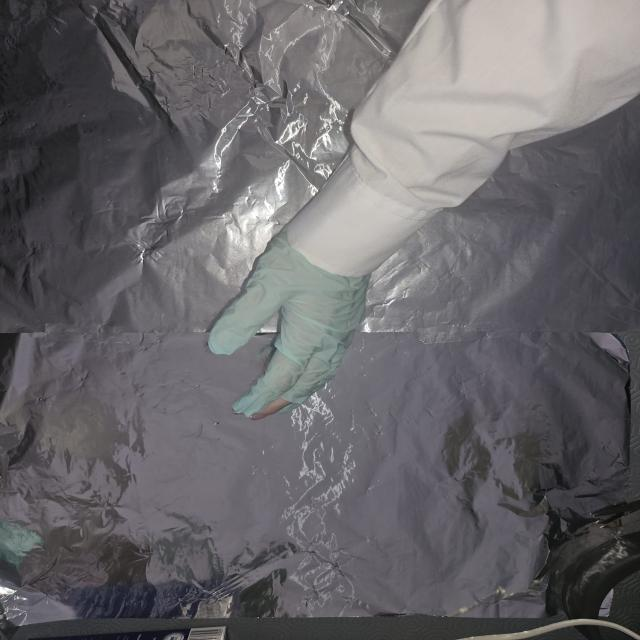gloves_damaged: (206, 230, 373, 422)
